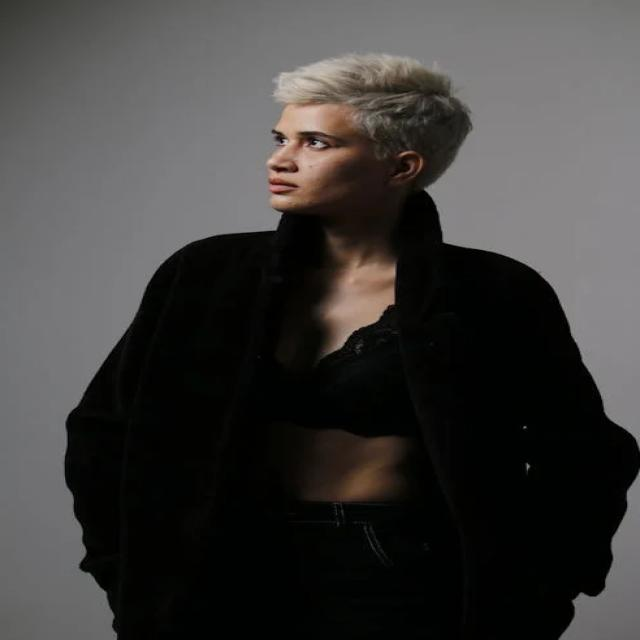Edited images: (69, 56, 637, 640)
